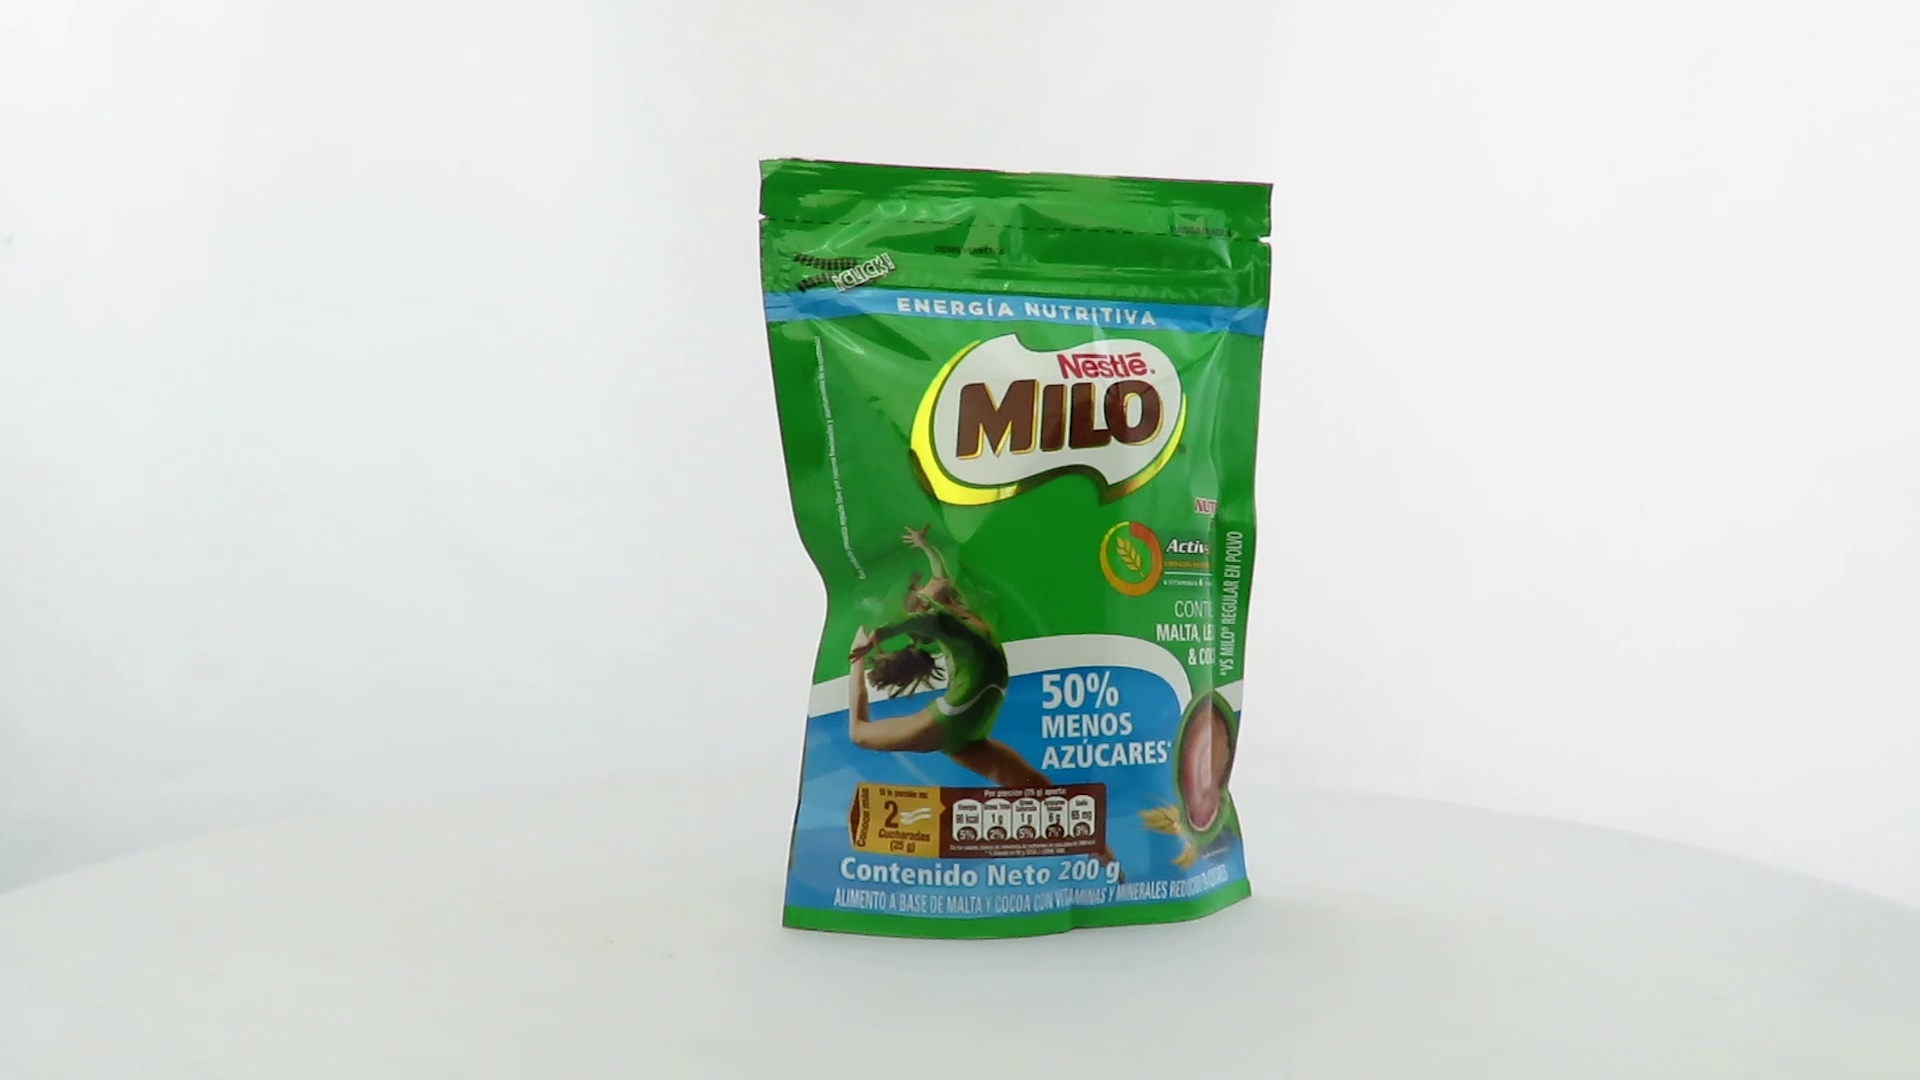COL0170205DYP20000: (753, 152, 1280, 947)
